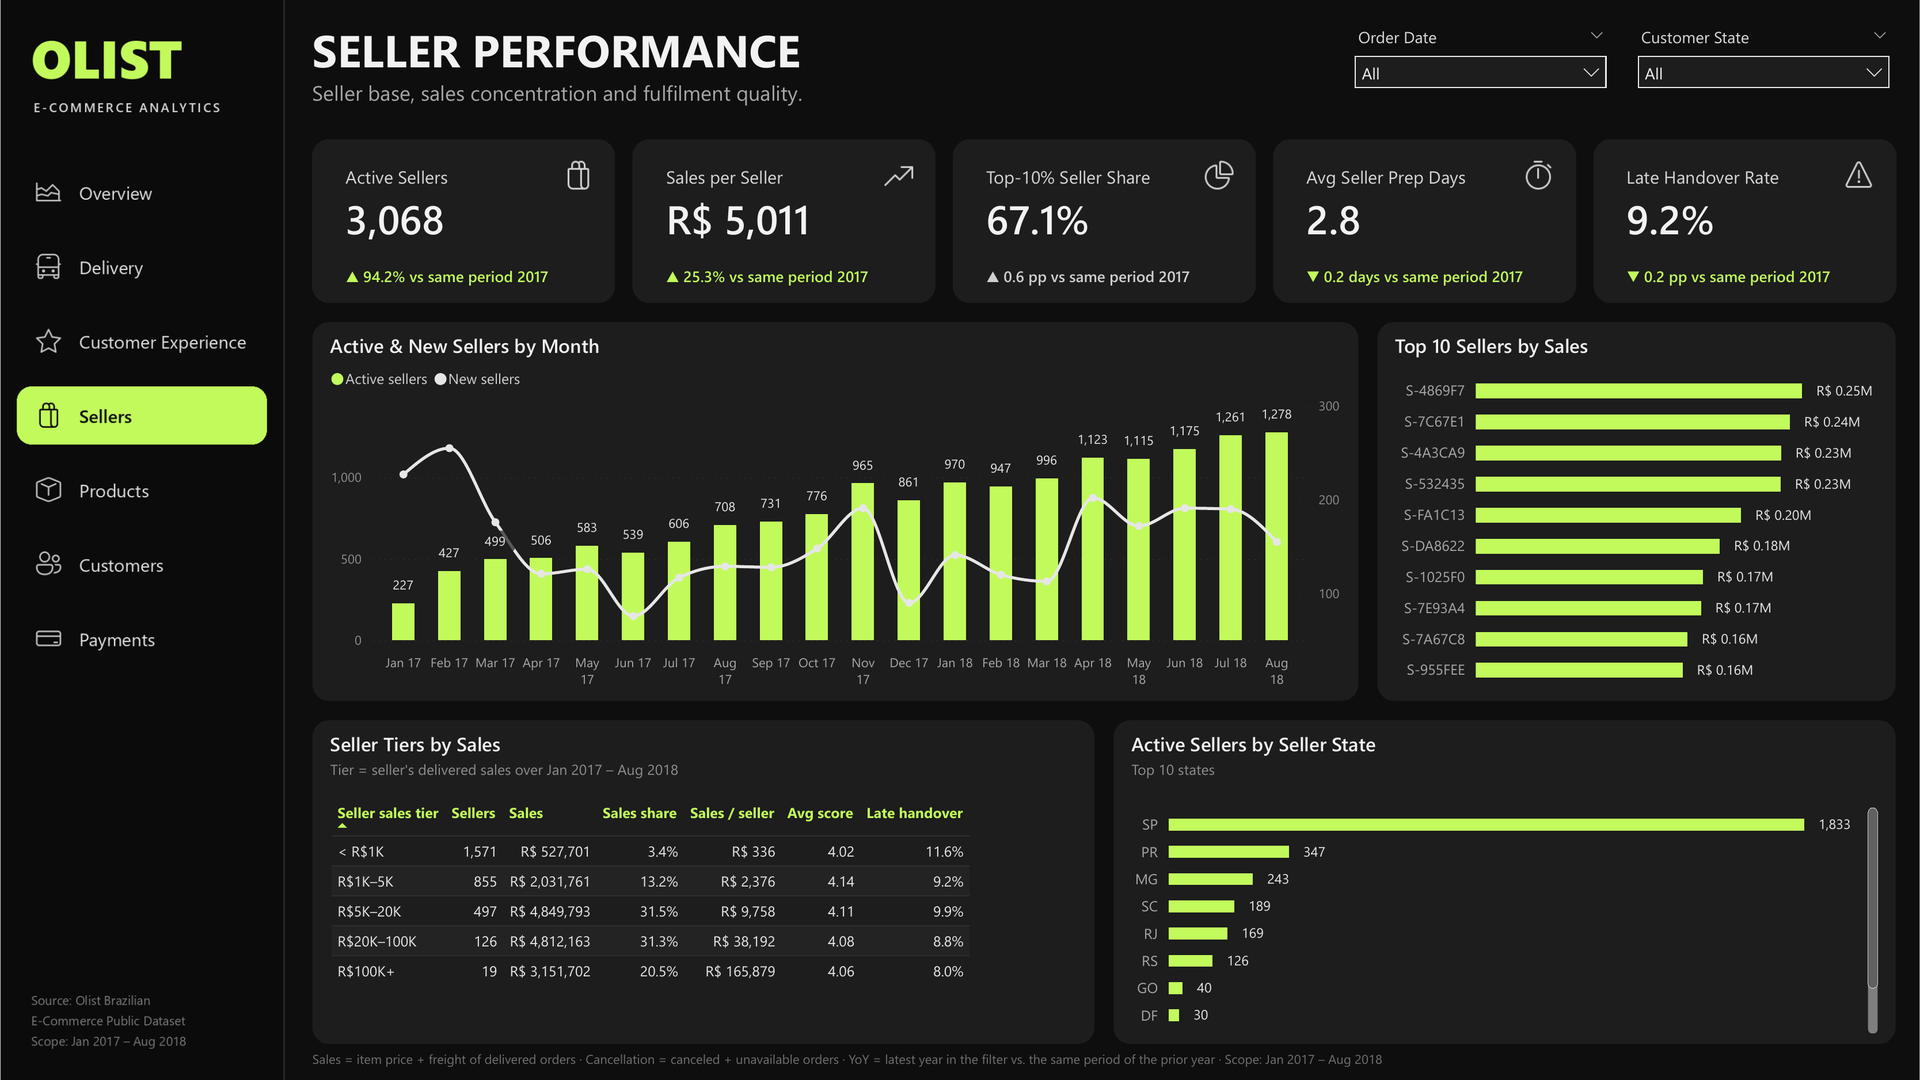

This screenshot's page, from the dashboard's own definition file:
{"tool":"powerbi","page":{"name":"Sellers","canvas":[1600,900],"ordinal":3},"visuals":[{"type":"textbox","box":[260,16,860,90],"z":0},{"type":"textbox","box":[260,874,1320,22],"z":1000},{"type":"cardVisual","fields":{"Data":["_Measures.Active Sellers"]},"box":[276,128,188,84],"z":2000},{"type":"cardVisual","fields":{"Data":["_Measures.Sales per Seller"]},"box":[543,128,188,84],"z":3000},{"type":"cardVisual","fields":{"Data":["_Measures.Top 10% Seller Share"]},"box":[810,128,188,84],"z":4000},{"type":"cardVisual","fields":{"Data":["_Measures.Avg Seller Prep Days"]},"box":[1077,128,188,84],"z":5000},{"type":"cardVisual","fields":{"Data":["_Measures.Late Handover Rate"]},"box":[1344,128,188,84],"z":6000},{"type":"cardVisual","fields":{"Data":["_Measures.Active Sellers Δ text"]},"box":[276,214,228,28],"z":7000},{"type":"cardVisual","fields":{"Data":["_Measures.Sales per Seller Δ text"]},"box":[543,214,228,28],"z":8000},{"type":"cardVisual","fields":{"Data":["_Measures.Top 10% Seller Share Δ text"]},"box":[810,214,228,28],"z":9000},{"type":"cardVisual","fields":{"Data":["_Measures.Avg Seller Prep Days Δ text"]},"box":[1077,214,228,28],"z":10000},{"type":"cardVisual","fields":{"Data":["_Measures.Late Handover Rate Δ text"]},"box":[1344,214,228,28],"z":11000},{"type":"lineStackedColumnComboChart","title":"Active & New Sellers by Month","fields":{"Category":["Date.YearMonth"],"Y":["_Measures.Active Sellers"],"Y2":["_Measures.New Sellers"]},"box":[260,268,872,316],"z":12000},{"type":"clusteredBarChart","title":"Top 10 Sellers by Sales","fields":{"Category":["Sellers.seller_code"],"Y":["_Measures.Item Sales"]},"box":[1148,268,432,316],"z":13000},{"type":"tableEx","title":"Seller Tiers by Sales","fields":{"Values":["Sellers.revenue_tier","_Measures.Active Sellers","_Measures.Item Sales","_Measures.Sales Share (Seller)","_Measures.Sales per Seller","_Measures.Avg Review Score","_Measures.Late Handover Rate"]},"box":[260,600,652,270],"z":14000},{"type":"clusteredBarChart","title":"Active Sellers by Seller State","fields":{"Category":["Sellers.seller_state"],"Y":["_Measures.Active Sellers"]},"box":[928,600,652,270],"z":15000},{"type":"actionButton","box":[14,136,208,48],"z":16000},{"type":"actionButton","box":[14,198,208,48],"z":17000},{"type":"actionButton","box":[14,260,208,48],"z":18000},{"type":"actionButton","box":[14,322,208,48],"z":19000},{"type":"actionButton","box":[14,384,208,48],"z":20000},{"type":"actionButton","box":[14,446,208,48],"z":21000},{"type":"actionButton","box":[14,508,208,48],"z":22000},{"type":"slicer","fields":{"Values":["Date.Year","Date.Month"]},"box":[1124,22,220,70],"z":23000},{"type":"slicer","fields":{"Values":["States.state_name"]},"box":[1360,22,220,70],"z":24000}]}

Visuals, with their boxes in screenshot pixels (x1, y1, x2, y2), scaled from the page's 1600x900 canvas onto the 1920x1080 screenshot:
textbox: [312, 19, 1344, 127]
textbox: [312, 1049, 1896, 1075]
cardVisual - _Measures.Active Sellers: [331, 154, 557, 254]
cardVisual - _Measures.Sales per Seller: [652, 154, 877, 254]
cardVisual - _Measures.Top 10% Seller Share: [972, 154, 1198, 254]
cardVisual - _Measures.Avg Seller Prep Days: [1292, 154, 1518, 254]
cardVisual - _Measures.Late Handover Rate: [1613, 154, 1838, 254]
cardVisual - _Measures.Active Sellers Δ text: [331, 257, 605, 290]
cardVisual - _Measures.Sales per Seller Δ text: [652, 257, 925, 290]
cardVisual - _Measures.Top 10% Seller Share Δ text: [972, 257, 1246, 290]
cardVisual - _Measures.Avg Seller Prep Days Δ text: [1292, 257, 1566, 290]
cardVisual - _Measures.Late Handover Rate Δ text: [1613, 257, 1886, 290]
"Active & New Sellers by Month" lineStackedColumnComboChart: [312, 322, 1358, 701]
"Top 10 Sellers by Sales" clusteredBarChart: [1378, 322, 1896, 701]
"Seller Tiers by Sales" tableEx: [312, 720, 1094, 1044]
"Active Sellers by Seller State" clusteredBarChart: [1114, 720, 1896, 1044]
actionButton: [17, 163, 266, 221]
actionButton: [17, 238, 266, 295]
actionButton: [17, 312, 266, 370]
actionButton: [17, 386, 266, 444]
actionButton: [17, 461, 266, 518]
actionButton: [17, 535, 266, 593]
actionButton: [17, 610, 266, 667]
slicer - Date.Year x Date.Month: [1349, 26, 1613, 110]
slicer - States.state_name: [1632, 26, 1896, 110]
